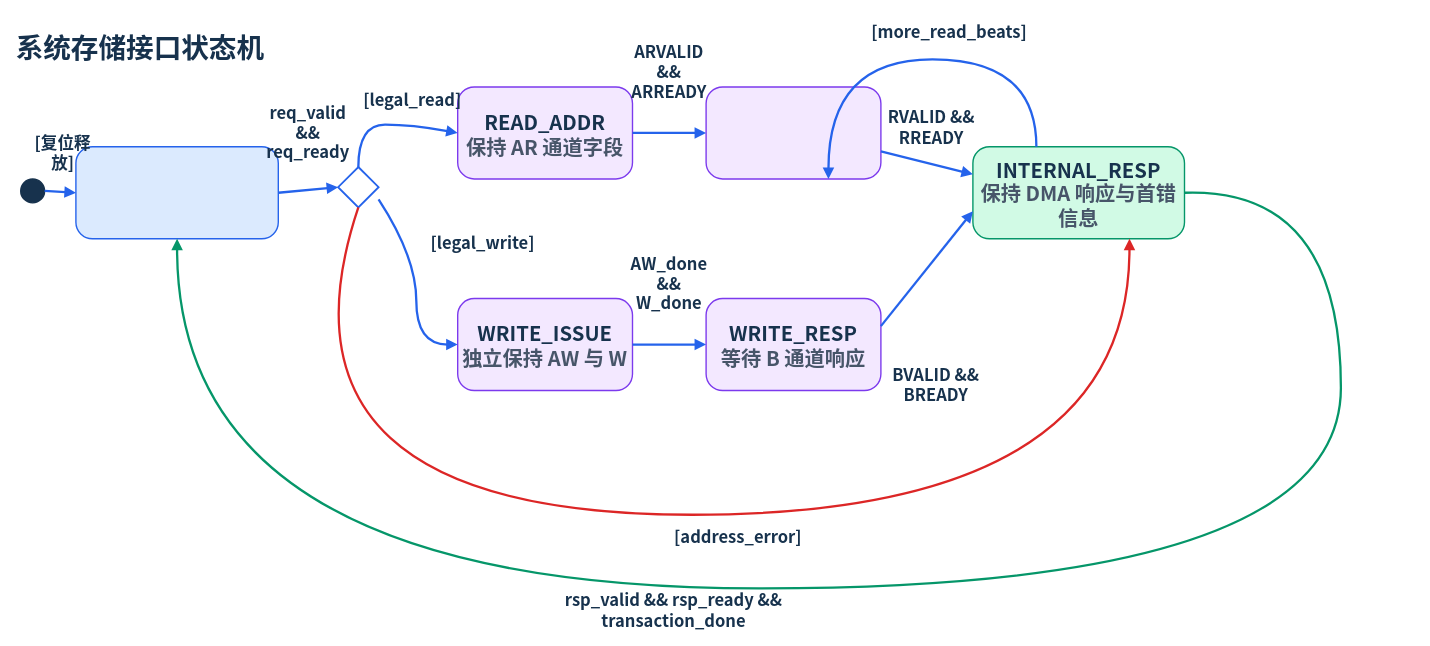
This 1430x646 diagram has some shape labels left out. The shapes that lost their labels are listed below. From the top down, each one's centre as x and y in pixels, then its label:
At pixel 793 132: "READ_DATA 接收一个 R 返回拍".
At pixel 177 192: "IDLE 等待 DMA 请求并检查地址".
